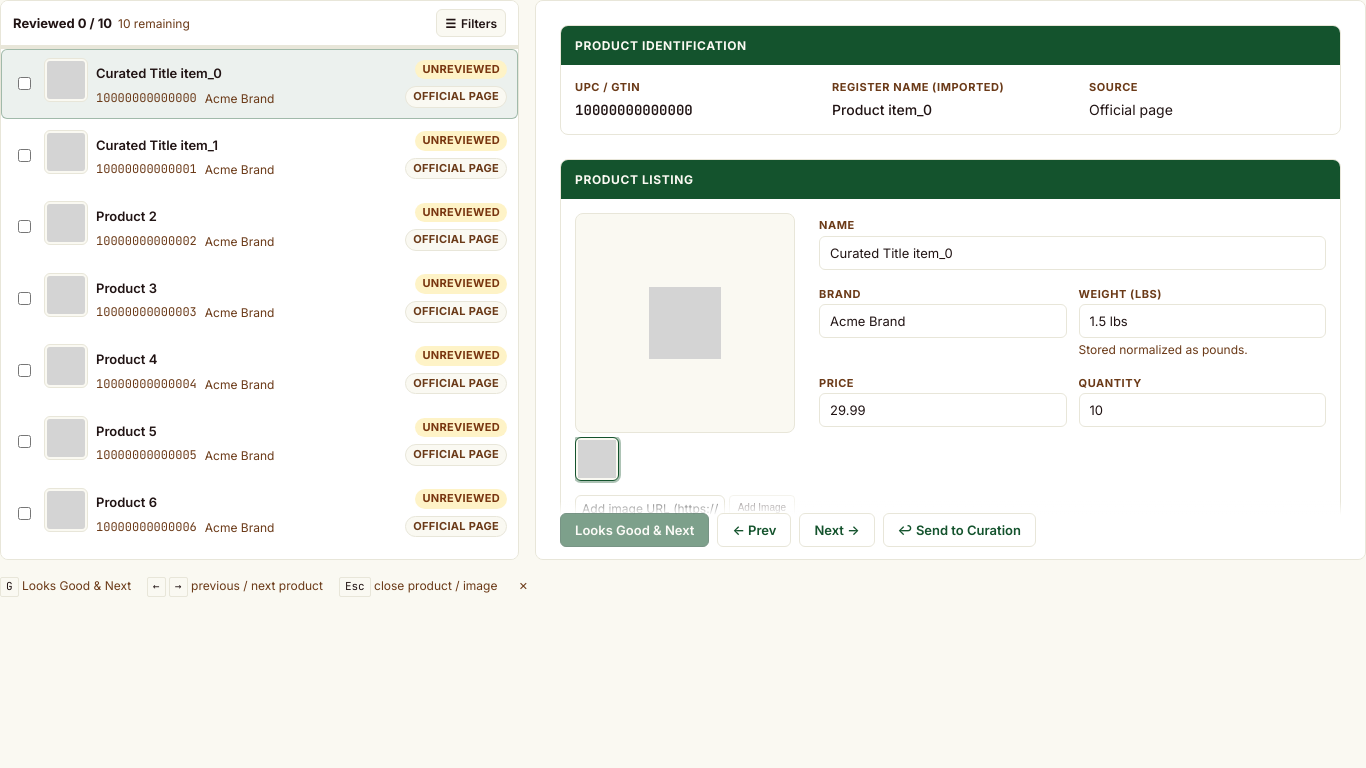
Scenario: Challenger 2 Empirical Stress Suite // Milestone 1 (P1-C) › 4. Adversarial Concurrency, Navigation & Schema Invariants › survives rapid item navigation with bounded cache and correct active item
What coordinates should you click on to do the following:
click the option with id "item_1"
I would click on:
 (66, 152)
Its box is [1,121,518,190].
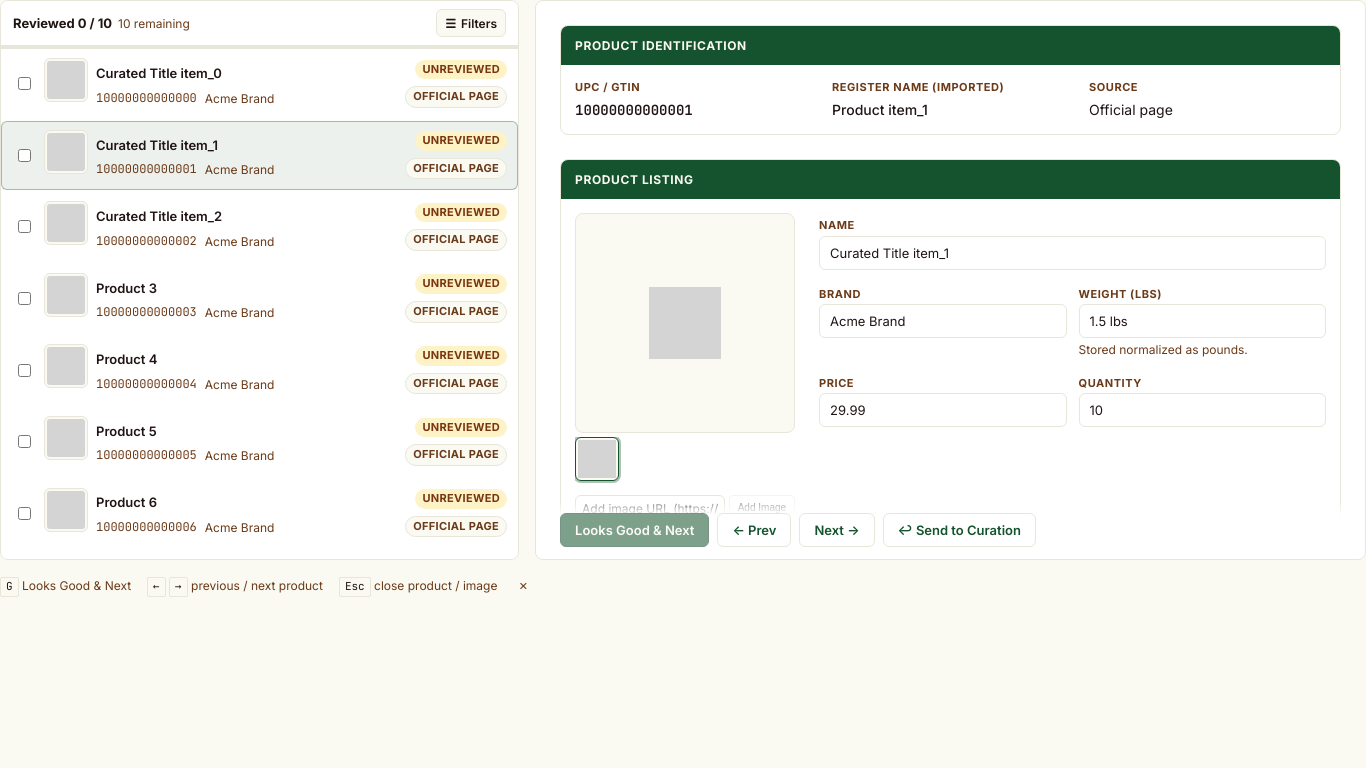
What coordinates should you click on to do the following:
click the option that starts with "Curated Title item_2"
I would click on:
 (66, 223)
Its box is [1,192,518,262].
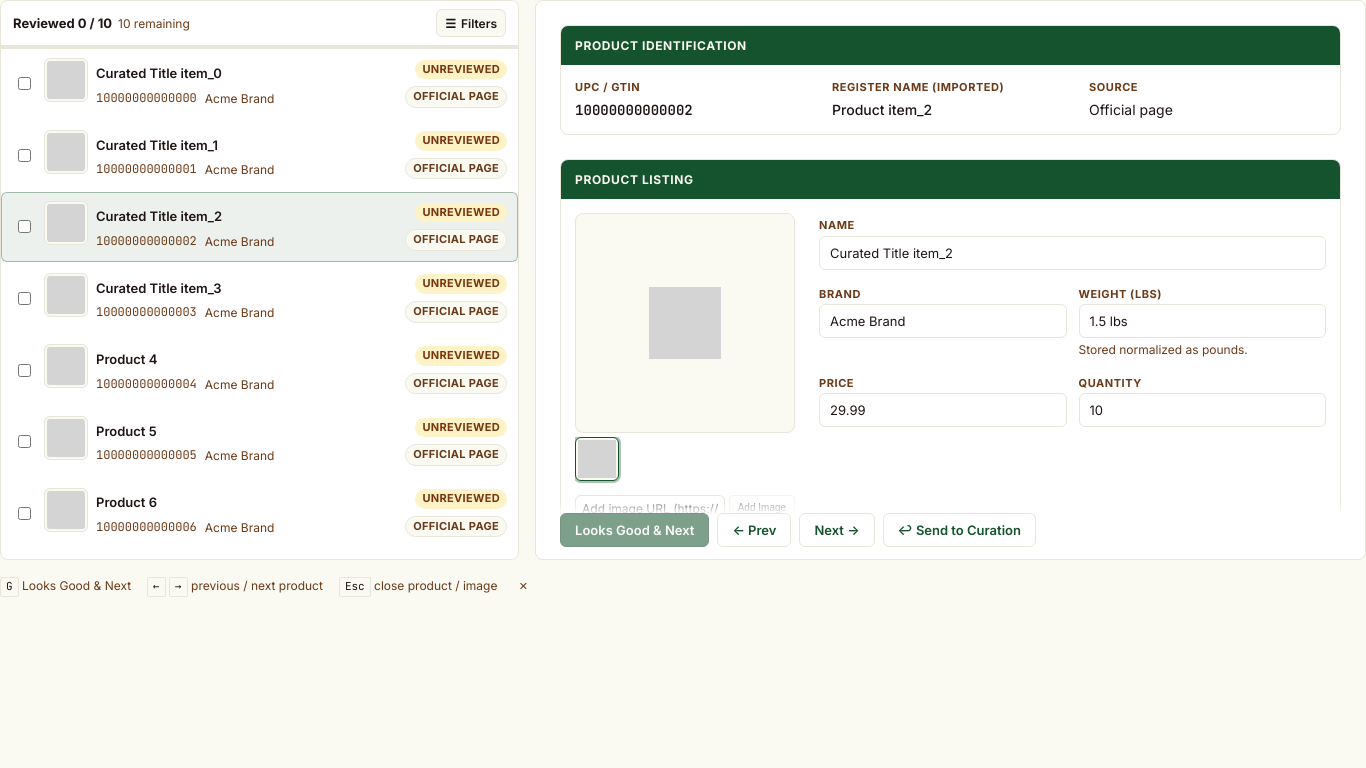
What coordinates should you click on to do the following:
click the option that starts with "Curated Title item_3"
I would click on:
 (66, 295)
Its box is [1,264,518,333].
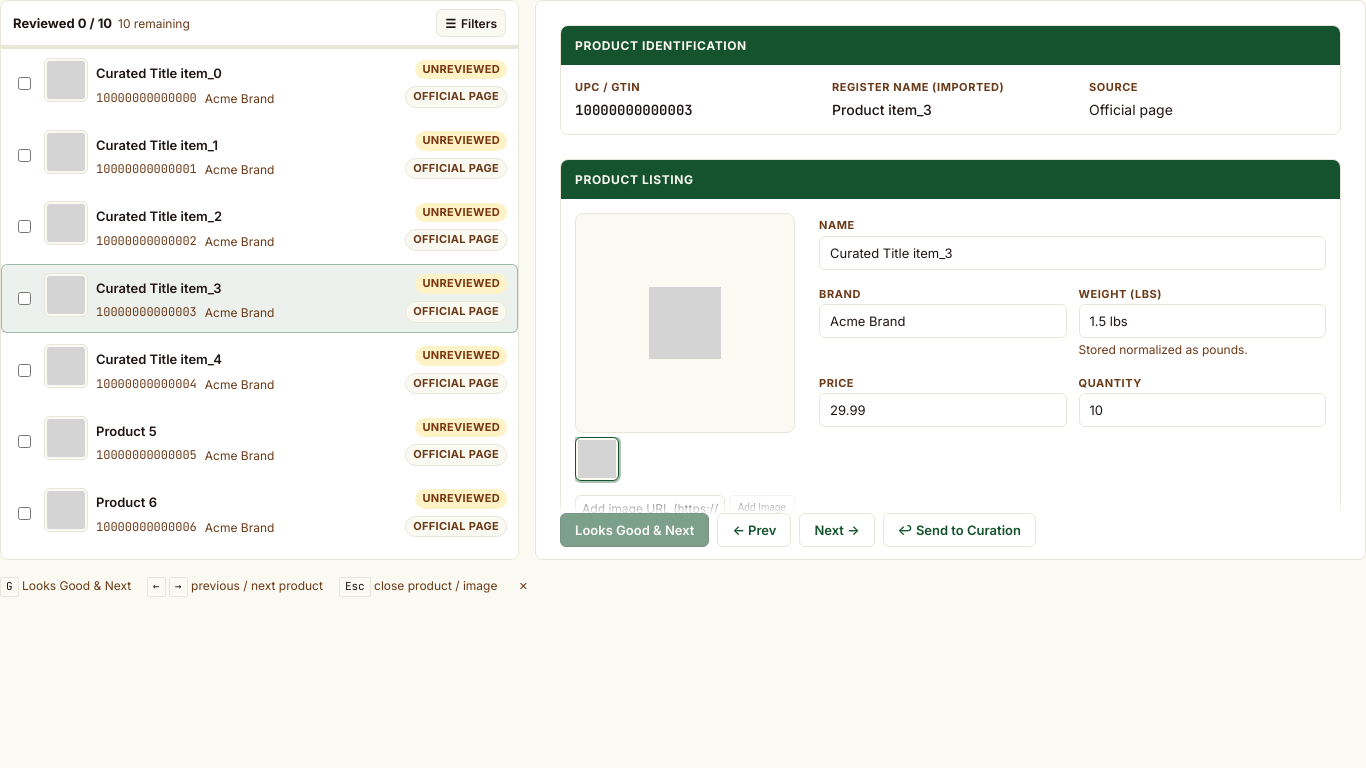
What coordinates should you click on to do the following:
click the option that starts with "Curated Title item_4"
I would click on:
 (66, 366)
Its box is [1,335,518,405].
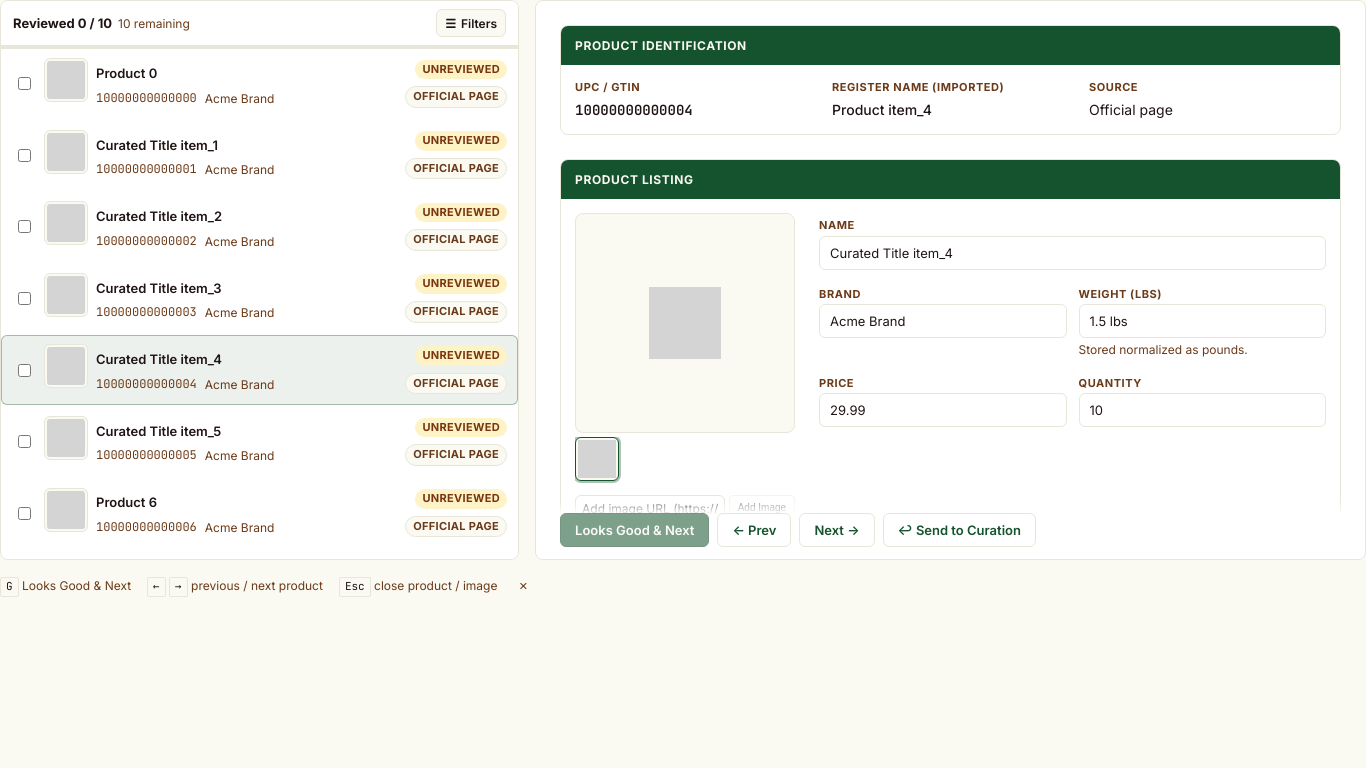
What coordinates should you click on to do the following:
click the option that starts with "Curated Title item_5"
I would click on:
 (66, 438)
Its box is [1,407,518,477].
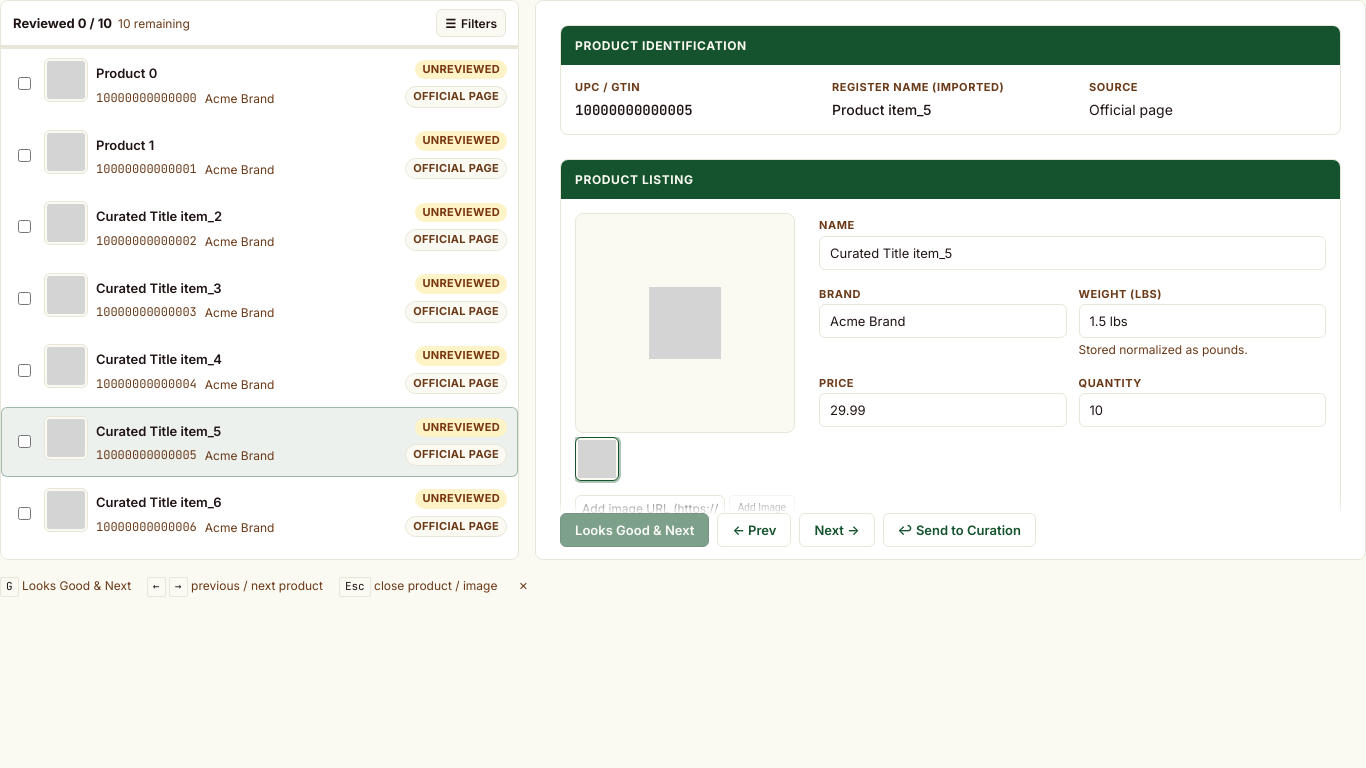
Expected: the option with class "rv-row-active" is shown, [1,407,518,477]
